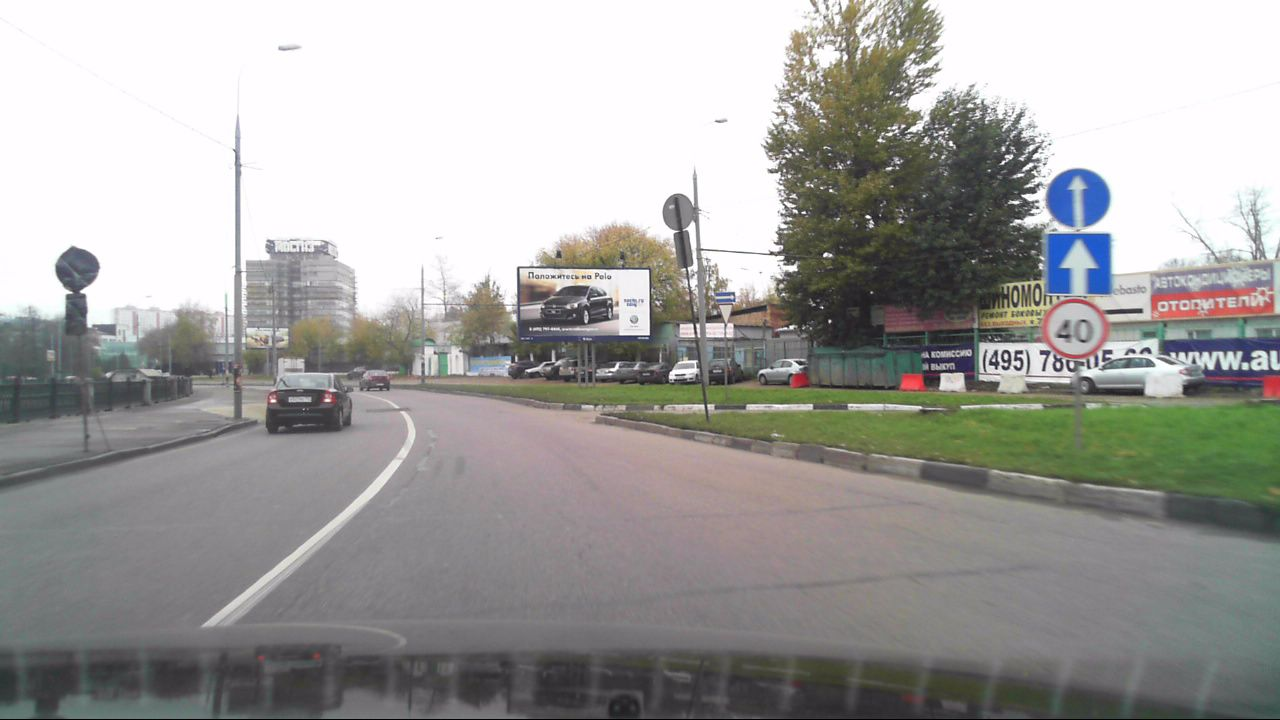speed_warning_40: (1042, 296, 1109, 359)
